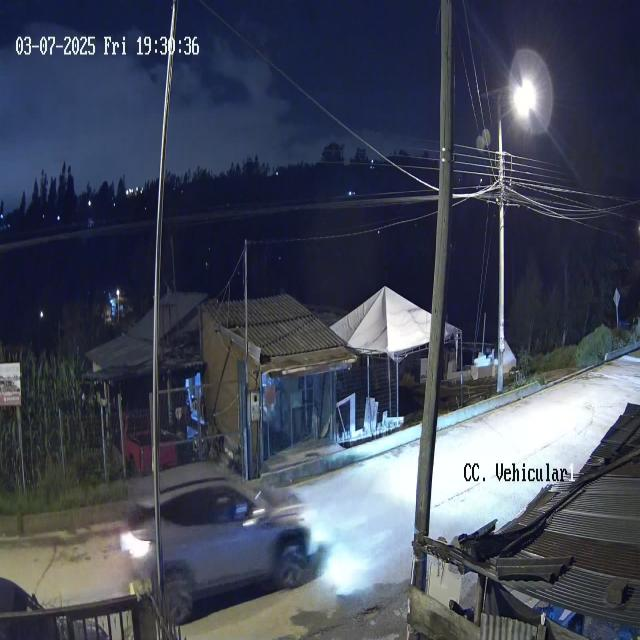SUV: (122, 460, 311, 623)
